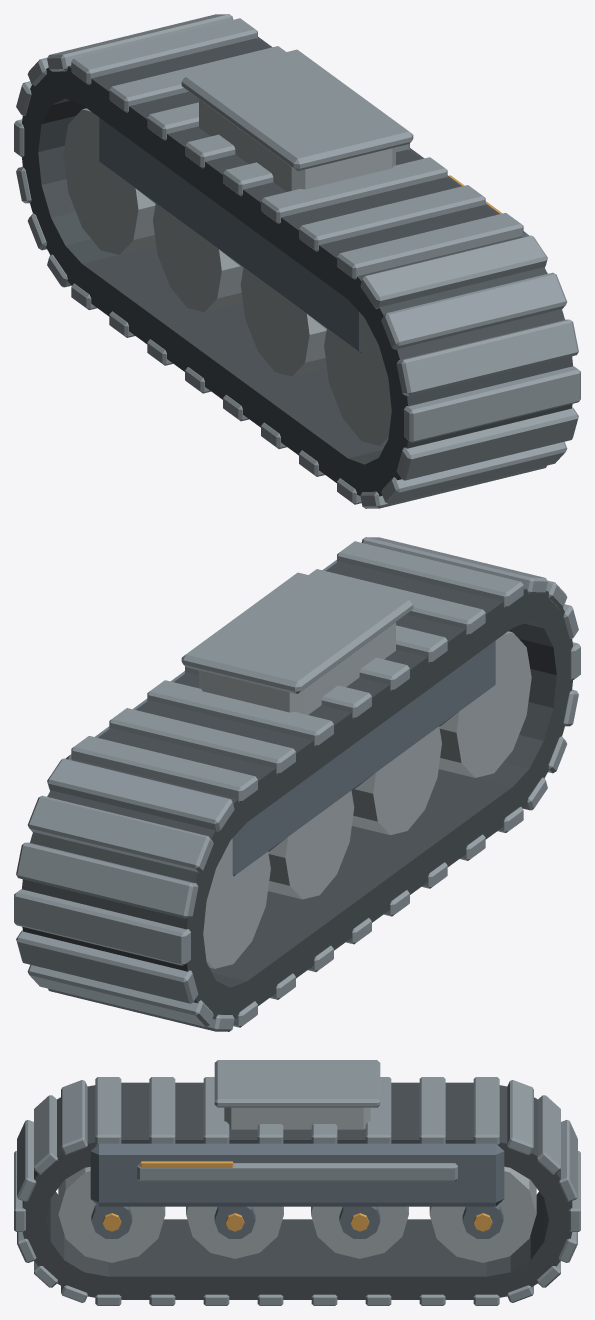
File: CGS_Track_R.fbx
3 views of the same model, one above another, from view 1: azimuth 30°, elevation 25°; view 2: azimuth 150°, elevation 25°; view 3: azimuth 270°, elevation 25° (orthographic). The views are drawn at different scales.
Parts seen in each view (by area): view 1: CGS_Track_R; view 2: CGS_Track_R; view 3: CGS_Track_R.
Part boxes in pixels (x1,y1,x2,y2): CGS_Track_R: [14, 14, 580, 508]; CGS_Track_R: [14, 537, 580, 1031]; CGS_Track_R: [14, 1060, 580, 1305].
Size of the model in its own units: 89.5 by 122 by 318.
